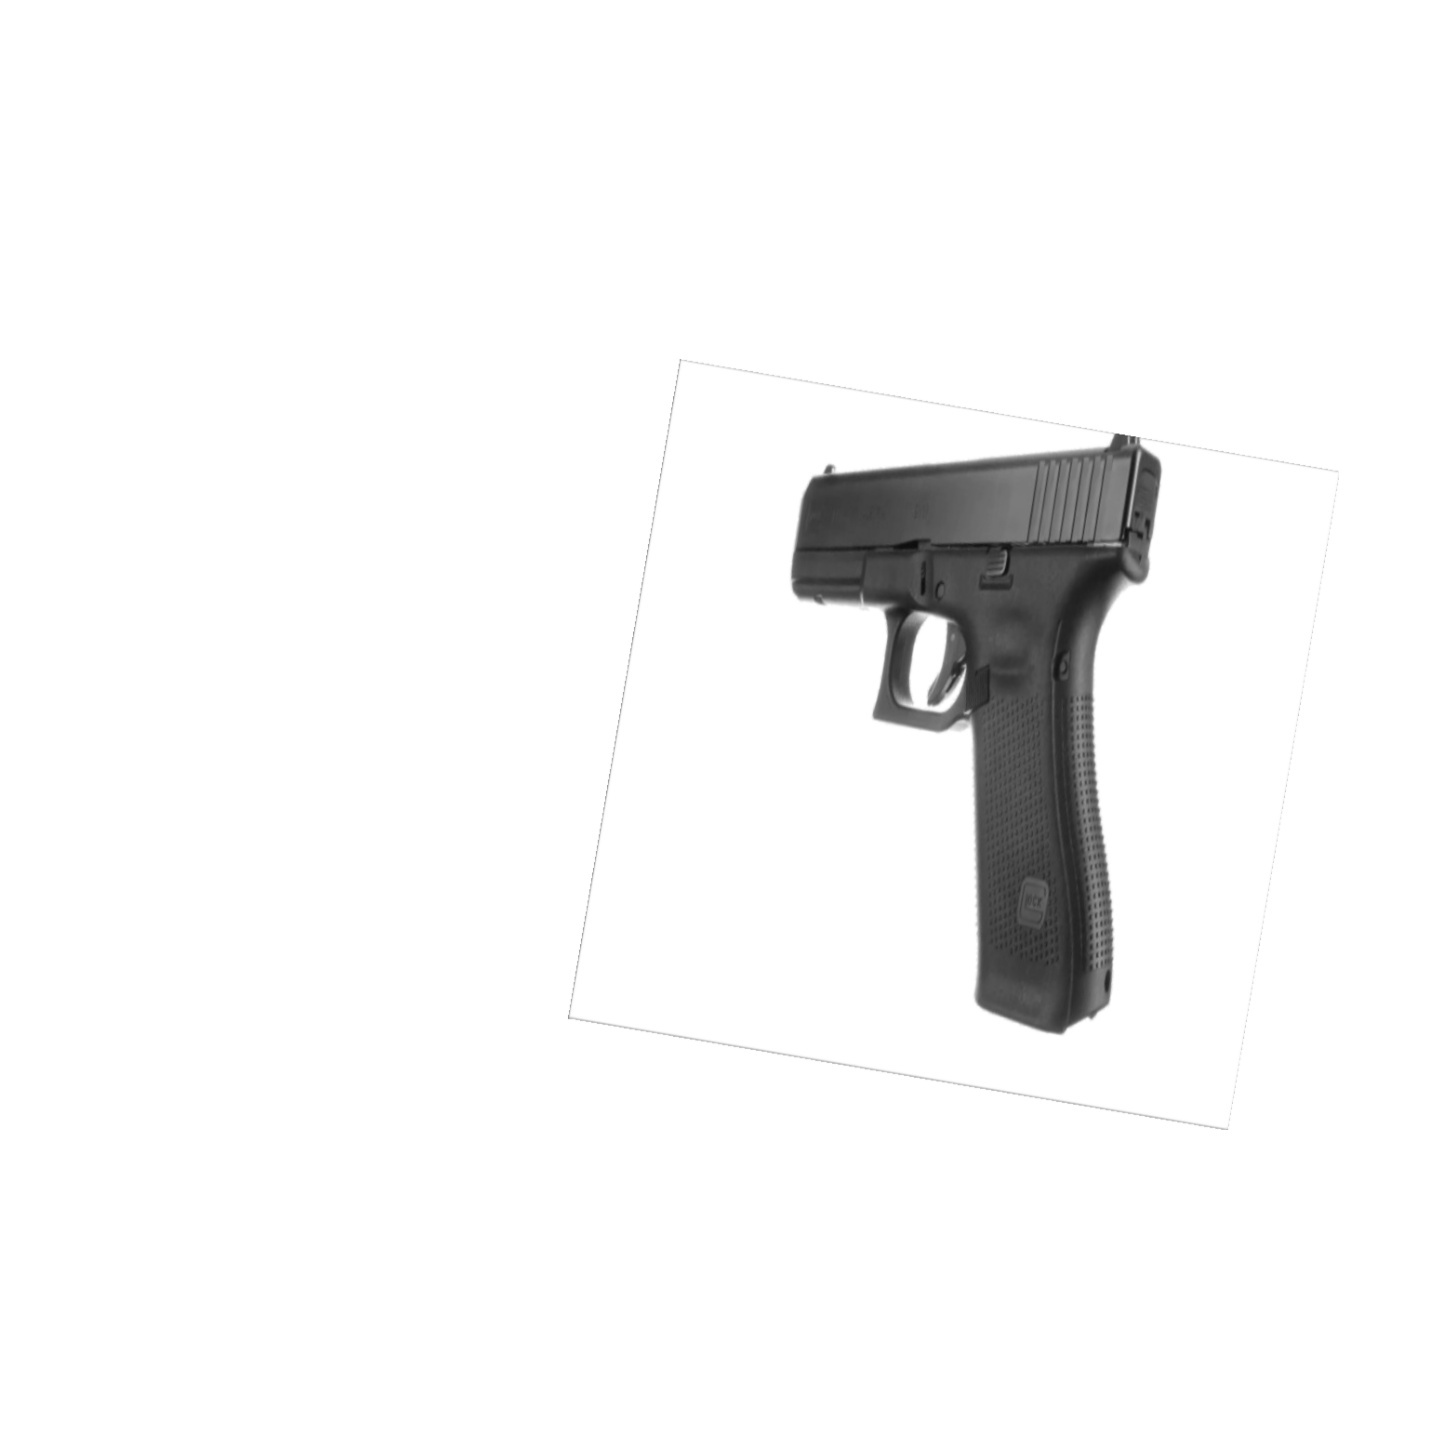gun: (778, 429, 1169, 1040)
